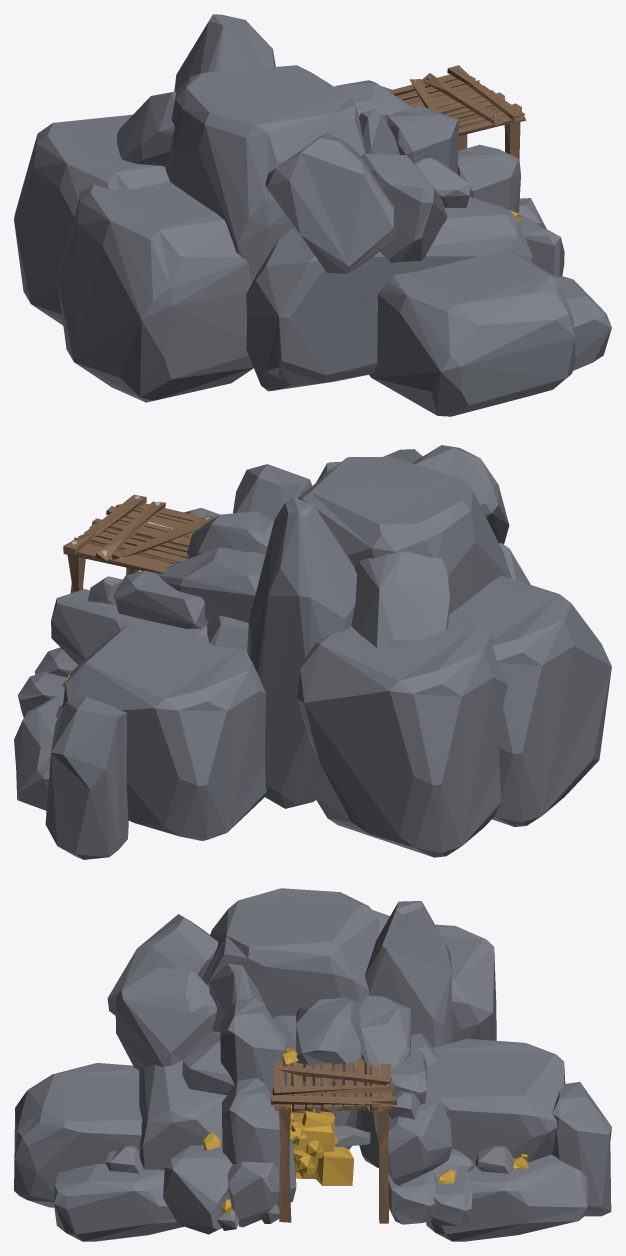
The model's file is mine.glb.
3 renders of one model, top to bottom at view 1: azimuth 30°, elevation 25°; view 2: azimuth 150°, elevation 25°; view 3: azimuth 270°, elevation 25°, orthographic. The views are drawn at different scales.
Parts seen in each view (by area): view 1: Object_4; view 2: Object_4; view 3: Object_4.
Boxes of the visible parts, <box> form: Object_4: <box>14,14,611,416</box>; Object_4: <box>14,445,611,859</box>; Object_4: <box>14,888,611,1241</box>.
Bounding box in the file's own units: 13.49 × 8.5 × 17.32.
